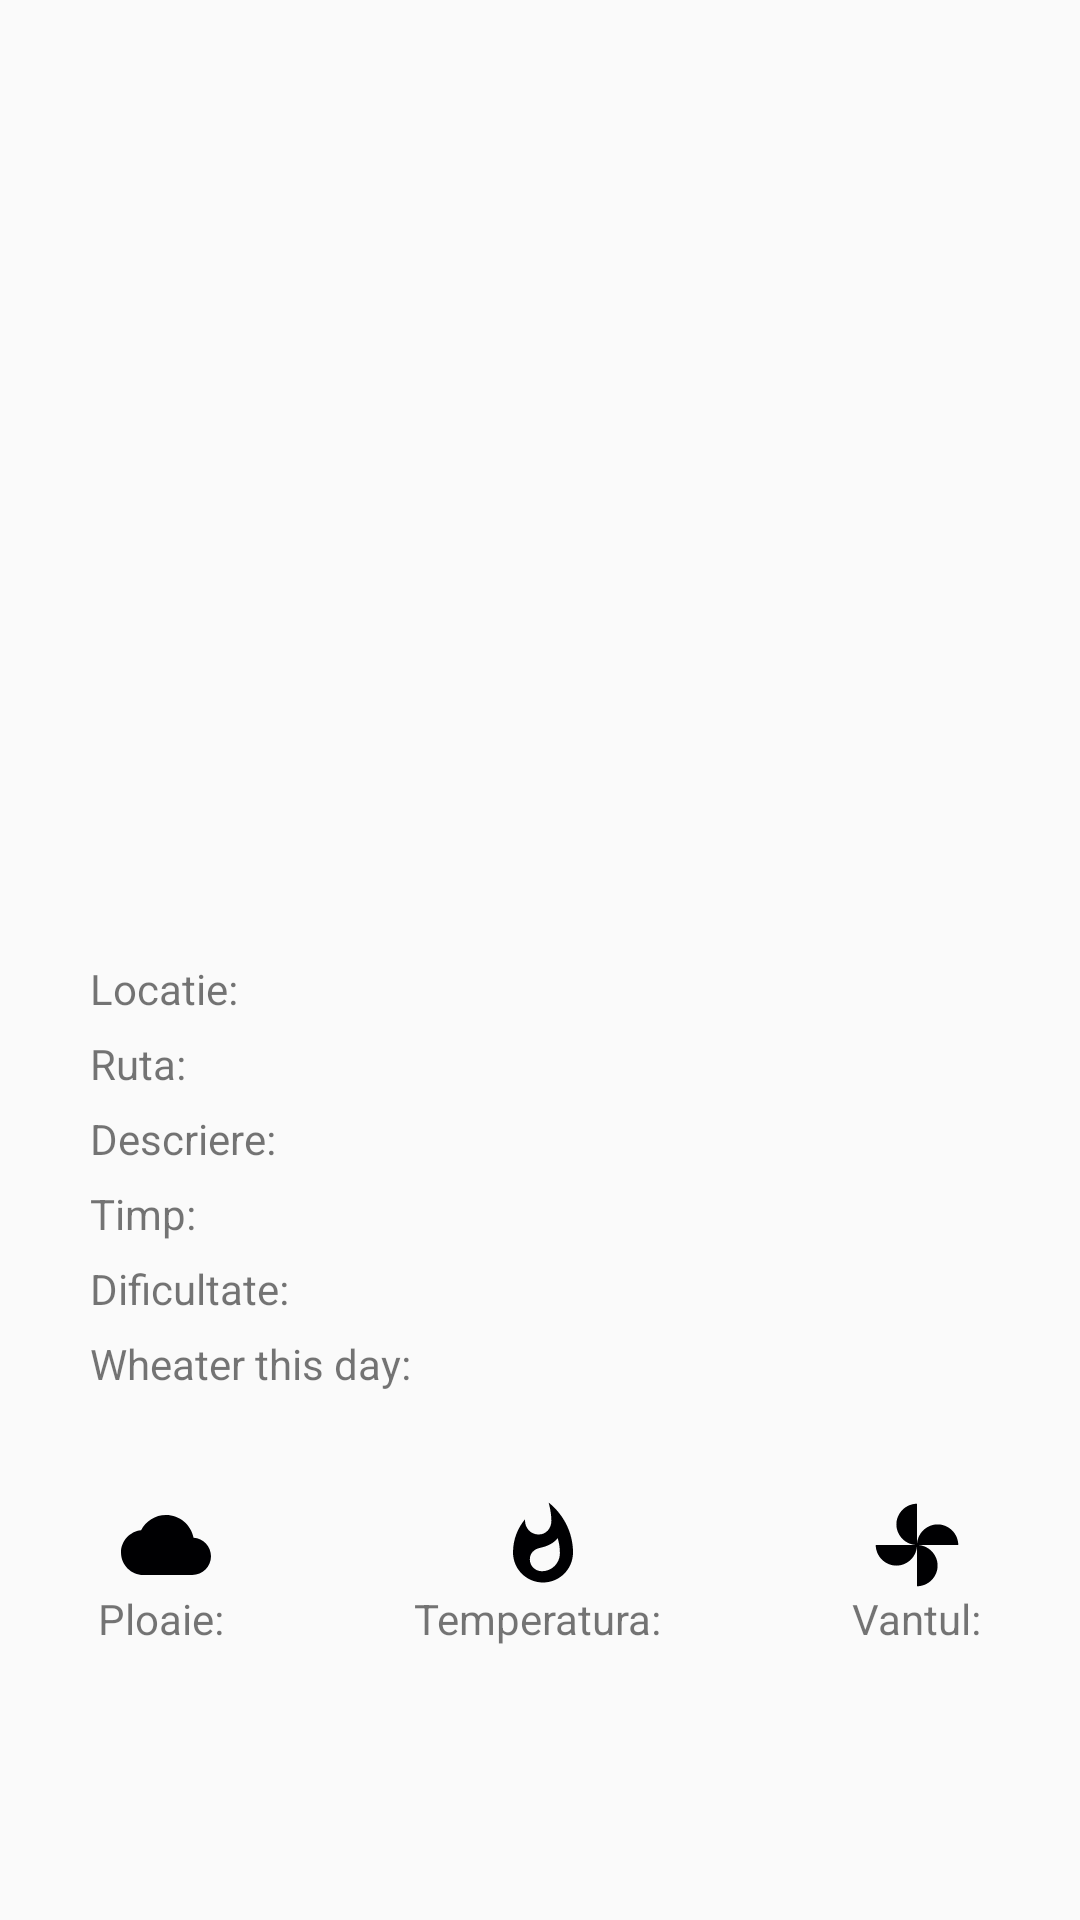

Named icons in this screenshot (1080*1920) and their bounding boxes, (x1, y1, x2, y2):
cloud: (121, 1515, 211, 1575)
toys: (875, 1503, 959, 1587)
whatshot: (513, 1503, 573, 1583)
